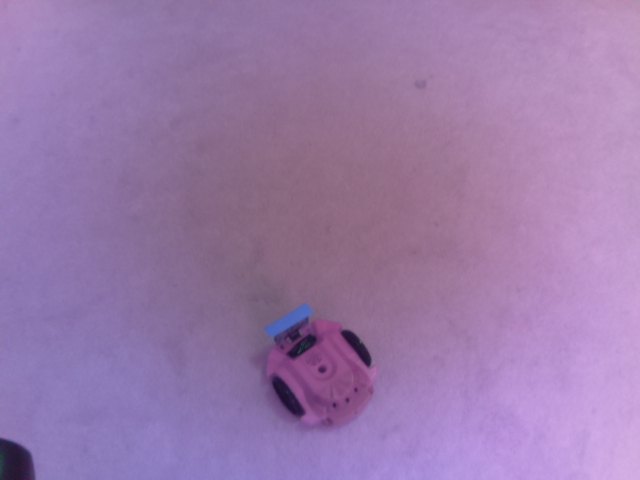board: (262, 301, 313, 346)
chassis: (262, 301, 378, 429)
